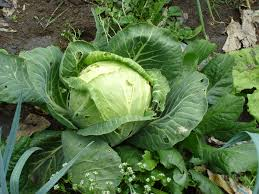cabbage: (62, 58, 160, 147)
